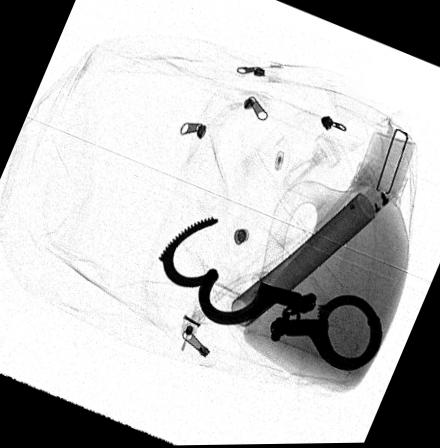HandCuffs: (157, 218, 383, 373)
